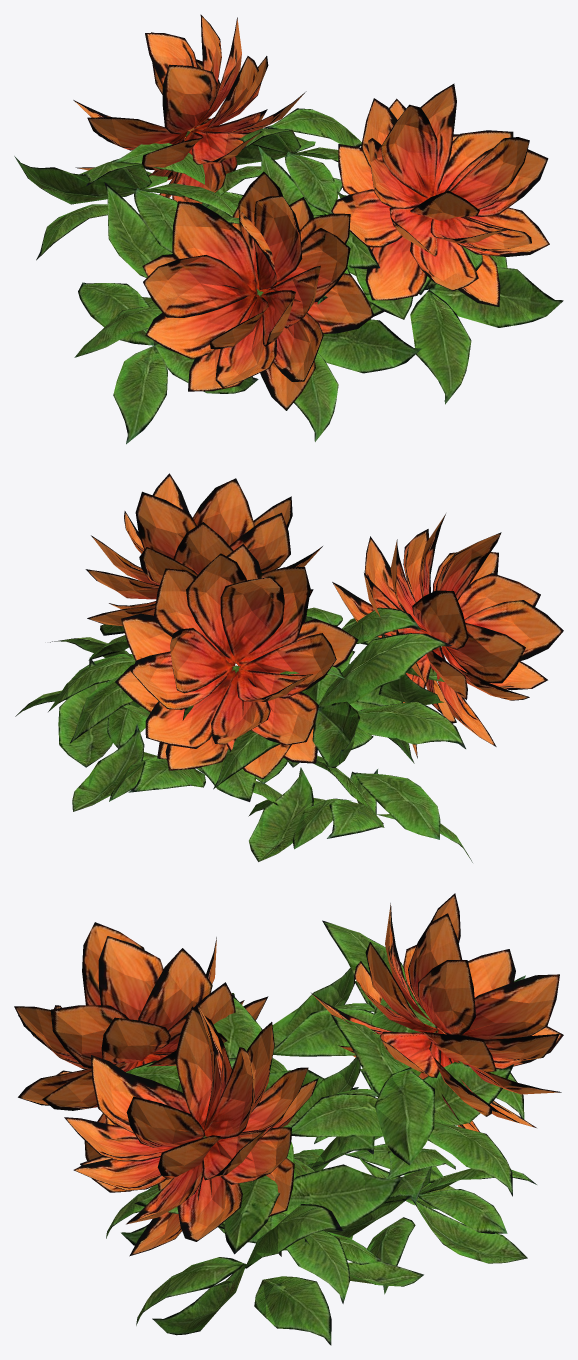
3 renders of one model, top to bottom at view 1: azimuth 30°, elevation 25°; view 2: azimuth 150°, elevation 25°; view 3: azimuth 270°, elevation 25°, orthographic. The views are drawn at different scales.
Visible parts, largest first — view 1: model; view 2: model; view 3: model.
Part boxes in pixels (box(x1,y1,x2,y2)): model: box(14, 14, 563, 444); model: box(15, 473, 563, 862); model: box(14, 893, 563, 1345).
Size of the model in its own units: 0.9493 by 0.6523 by 0.8797.
Materials: 1 (1 with a texture image).
